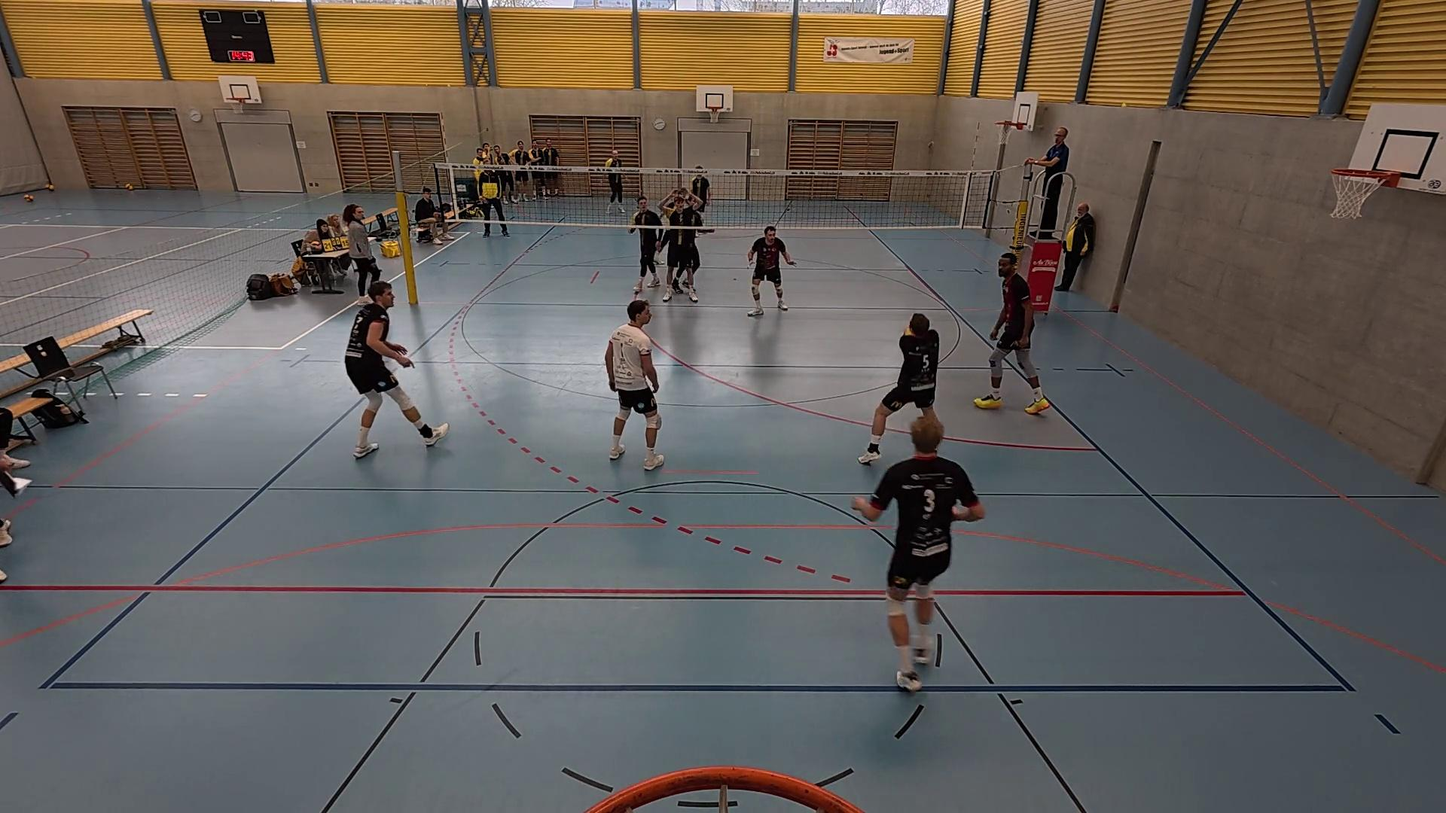ricezione: (856, 312, 944, 467)
